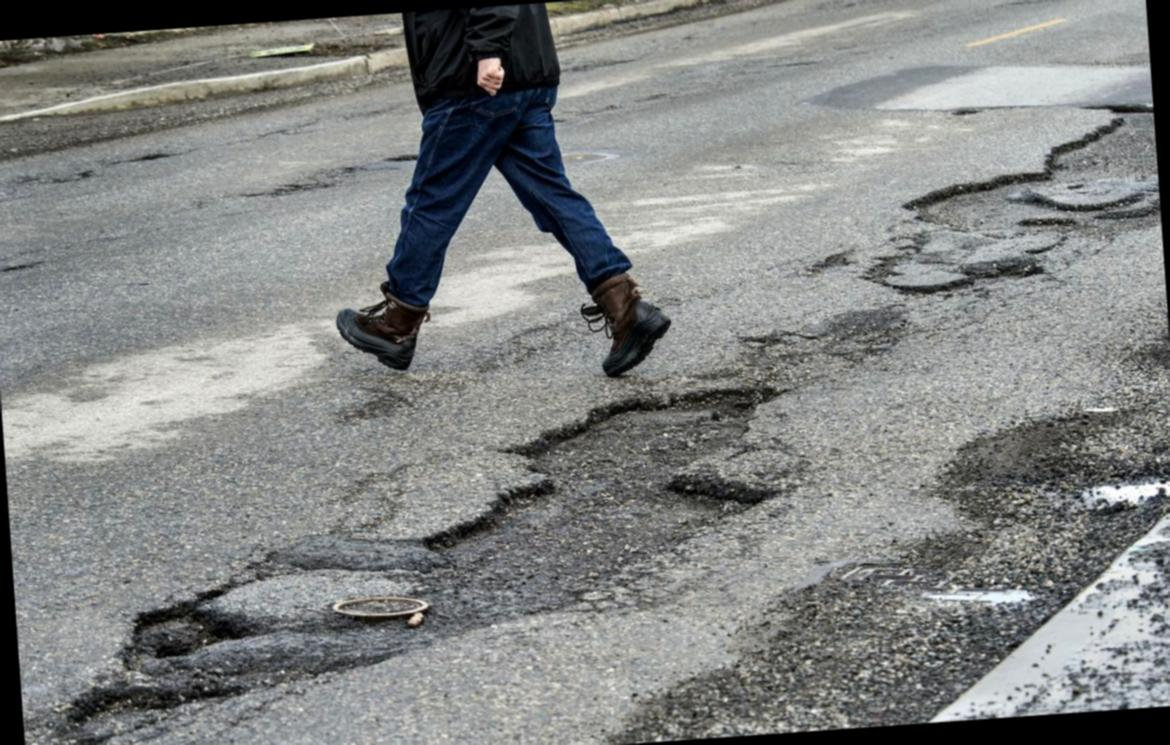pothole: (13, 357, 831, 745), (880, 86, 1168, 336), (531, 31, 870, 137), (29, 144, 192, 198), (234, 151, 375, 209), (541, 43, 648, 82), (975, 0, 1128, 21), (365, 136, 435, 178)
